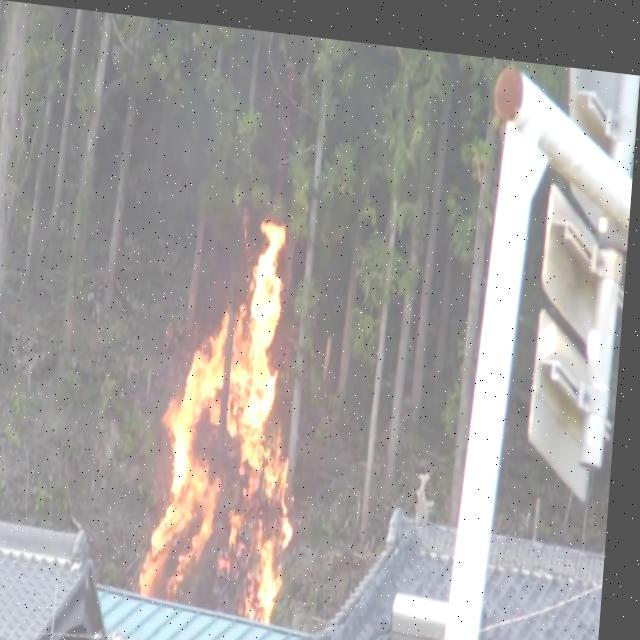Fire: (146, 201, 317, 618)
